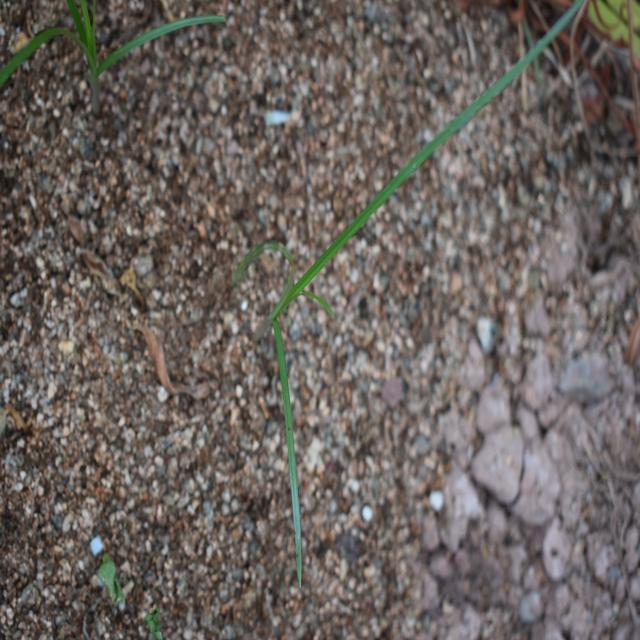sedge: (262, 47, 493, 517), (6, 0, 222, 120)
